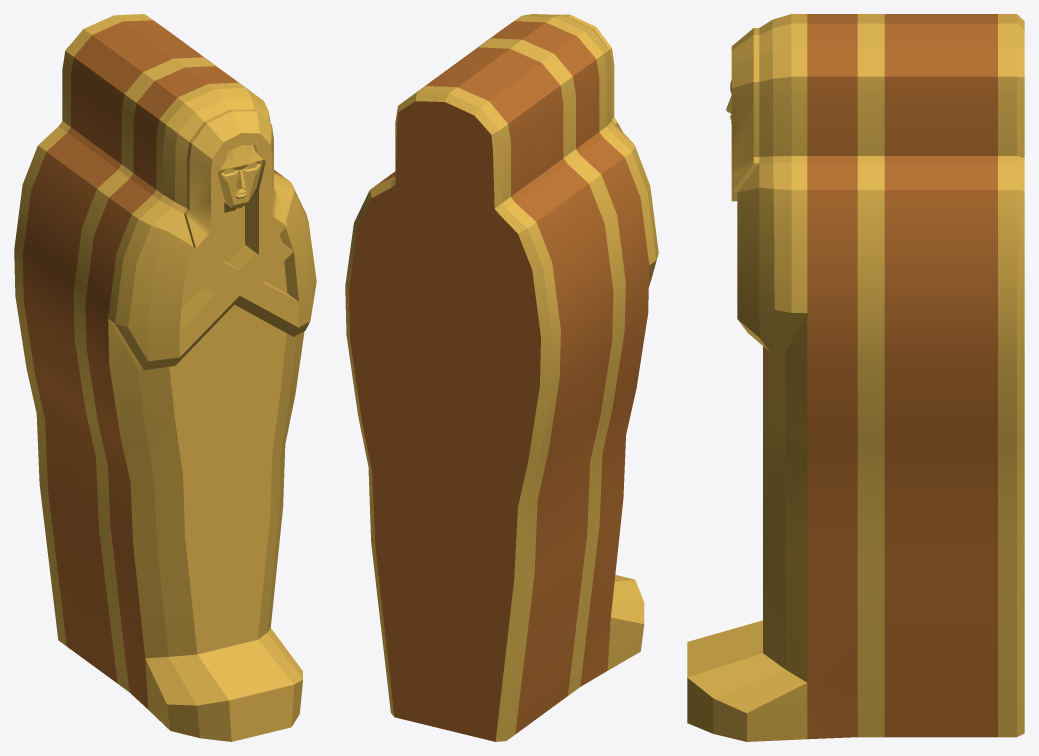
The model's file is sarcophagus.fbx.
3 views of the same model, side by side, from view 1: azimuth 30°, elevation 25°; view 2: azimuth 150°, elevation 25°; view 3: azimuth 270°, elevation 25° (orthographic). The views are drawn at different scales.
Parts seen in each view (by area): view 1: Plane.001, Plane; view 2: Plane, Plane.001; view 3: Plane, Plane.001.
Boxes of the visible parts, bbox=[...] form: Plane.001: bbox=[85, 66, 316, 741]; Plane: bbox=[14, 14, 224, 691]; Plane: bbox=[345, 38, 625, 741]; Plane.001: bbox=[480, 14, 658, 686]; Plane: bbox=[857, 14, 1024, 737]; Plane.001: bbox=[687, 14, 857, 741].
Size of the model in its own units: 78.48 by 230 by 103.
